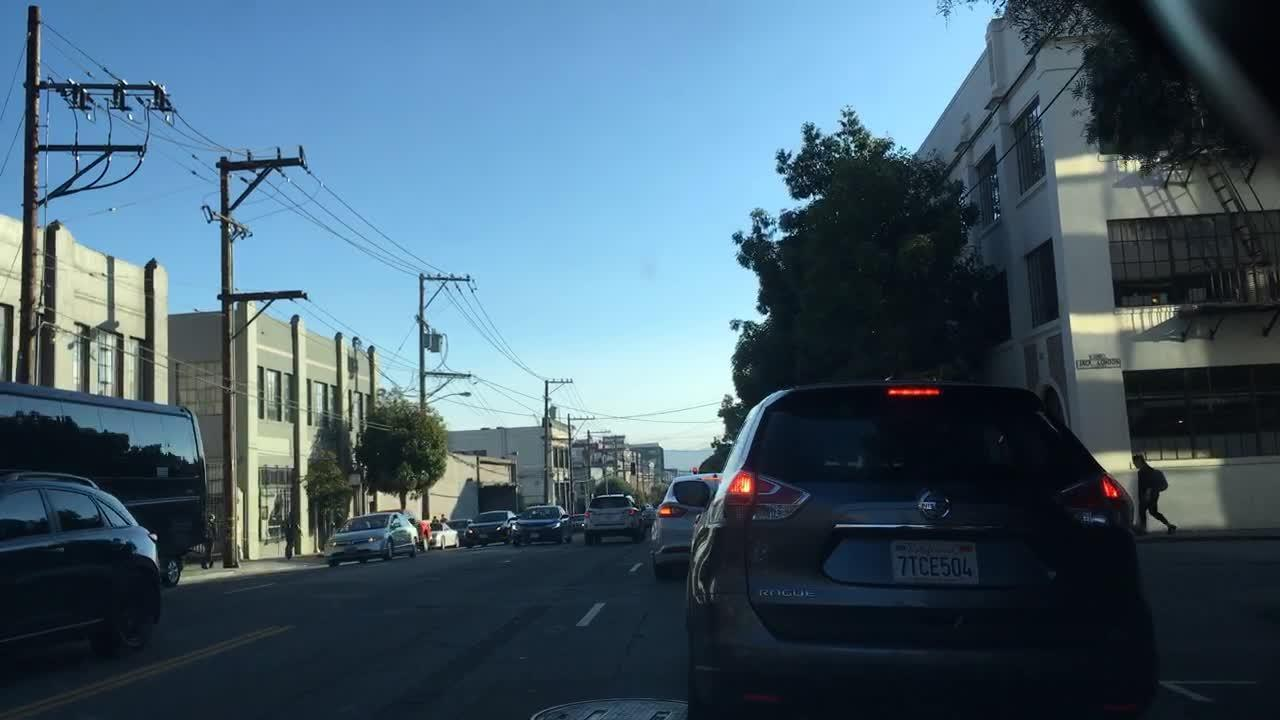Nissan: (915, 477, 953, 527)
